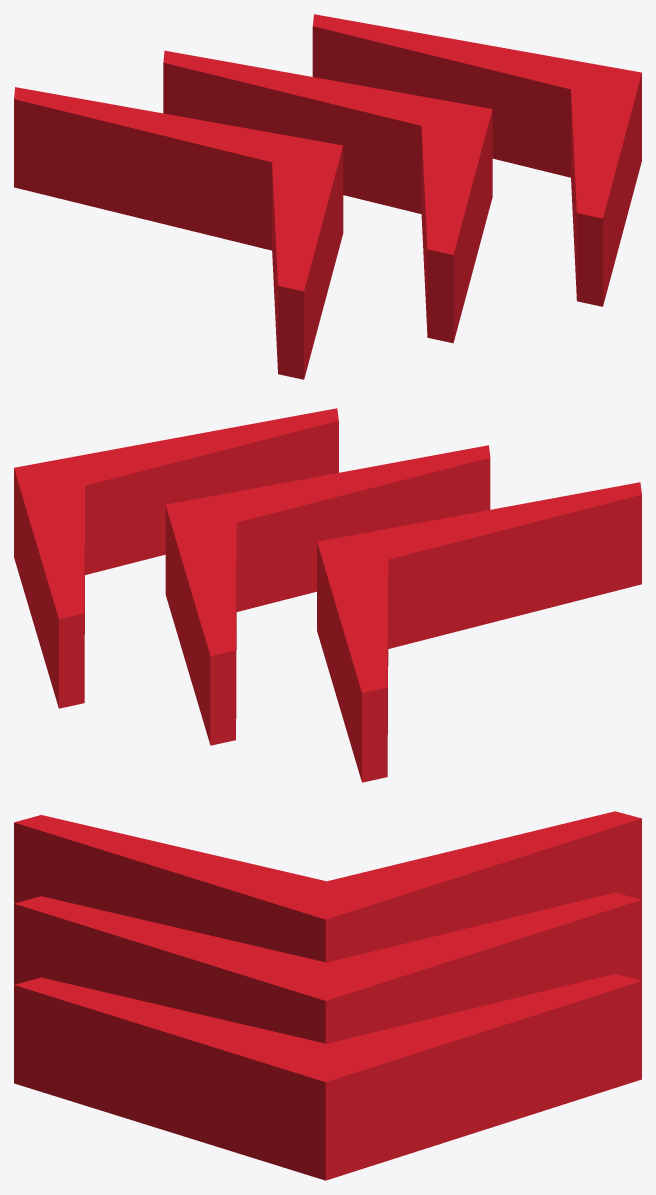
File: ArrowPrefab.fbx
3 renders of one model, top to bottom at view 1: azimuth 30°, elevation 25°; view 2: azimuth 150°, elevation 25°; view 3: azimuth 270°, elevation 25°, orthographic. The views are drawn at different scales.
Visible parts, largest first — view 1: Object_2; view 2: Object_2; view 3: Object_2.
Boxes of the visible parts, x1=… form: Object_2: x1=14, y1=14, x2=641, y2=379; Object_2: x1=14, y1=408, x2=641, y2=782; Object_2: x1=14, y1=811, x2=641, y2=1180.
Size of the model in its own units: 201 by 34.06 by 197.
